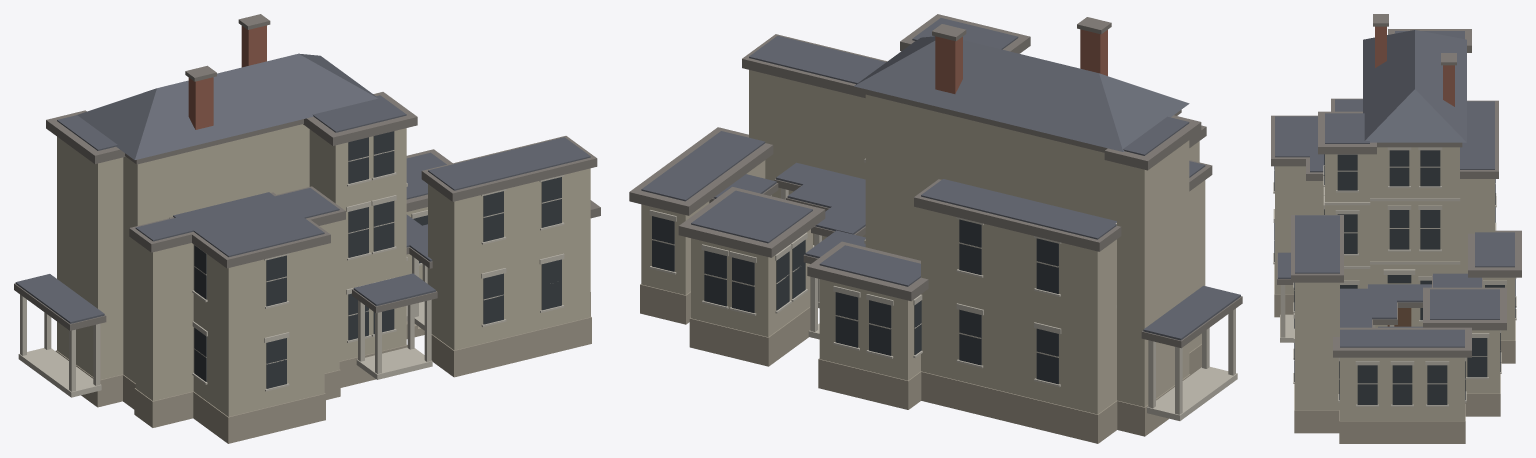
The model's file is house_2010_prairie__draft_1904.glb.
3 renders of one model, left to right at view 1: azimuth 30°, elevation 25°; view 2: azimuth 150°, elevation 25°; view 3: azimuth 270°, elevation 25°, orthographic. The views are drawn at different scales.
Parts seen in each view (by area): view 1: house_2010_prairie__draft_1904; view 2: house_2010_prairie__draft_1904; view 3: house_2010_prairie__draft_1904.
Boxes of the visible parts, <box> form: house_2010_prairie__draft_1904: <box>14,14,600,443</box>; house_2010_prairie__draft_1904: <box>629,14,1242,443</box>; house_2010_prairie__draft_1904: <box>1271,14,1521,443</box>.
Bounding box in the file's own units: 25 × 15.03 × 12.55.
